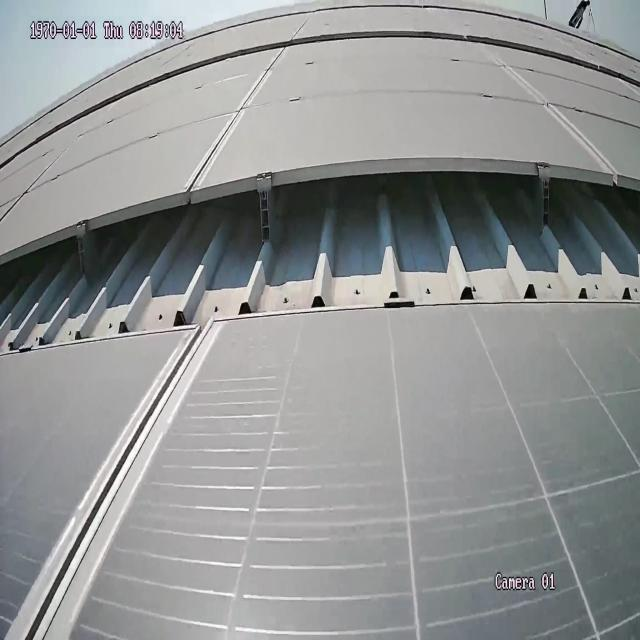interior panel: (9, 340, 211, 631), (491, 61, 621, 166), (186, 65, 279, 178)
outher panel: (3, 158, 636, 364)
